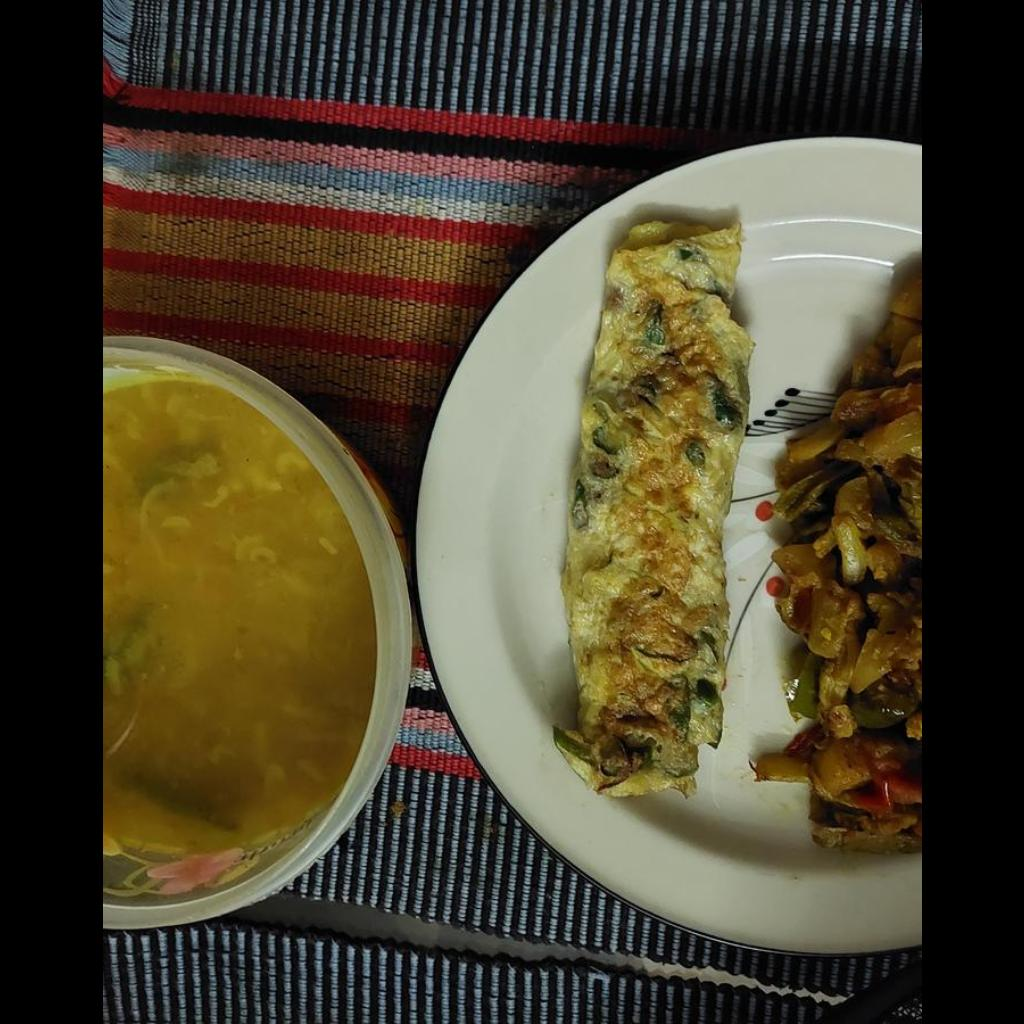daal: (102, 380, 377, 864)
egg-poached: (564, 217, 752, 794)
vaji: (750, 257, 920, 850)
